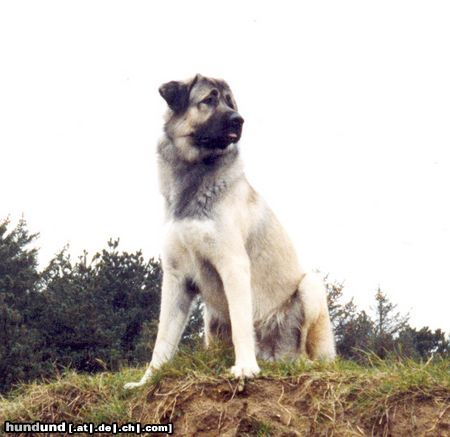kangal: (123, 73, 338, 394)
